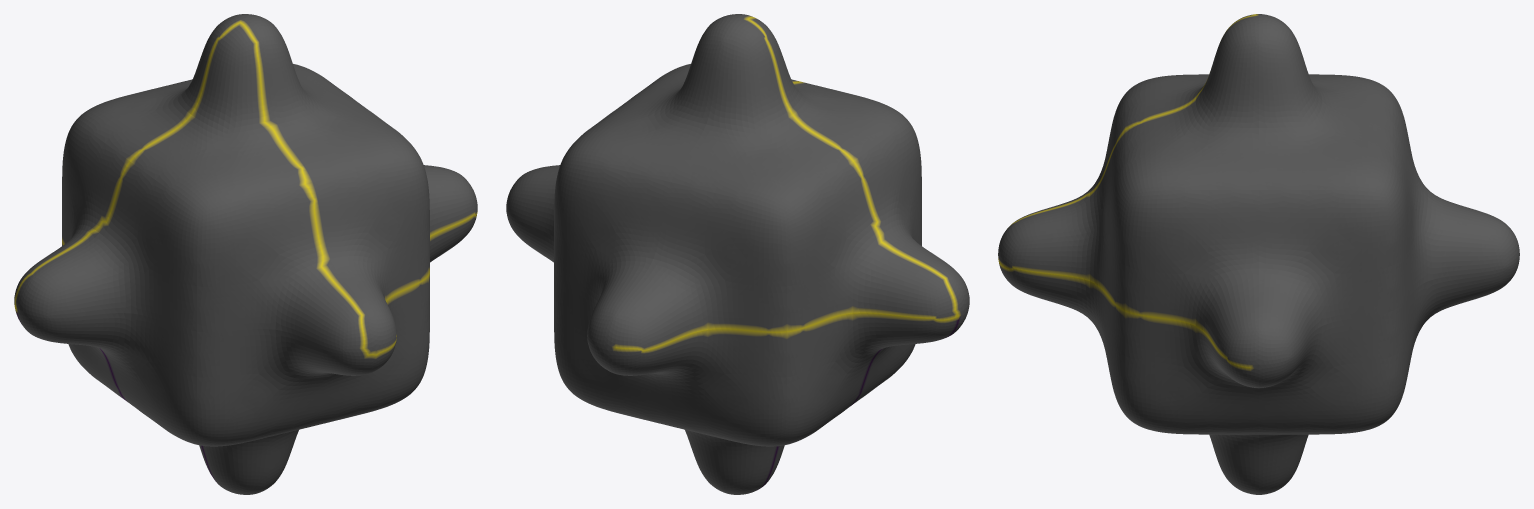
The model's file is paths.obj.
3 renders of one model, left to right at view 1: azimuth 30°, elevation 25°; view 2: azimuth 150°, elevation 25°; view 3: azimuth 270°, elevation 25°, orthographic.
Bounding box in the file's own units: 8.68 × 8.68 × 8.68.
